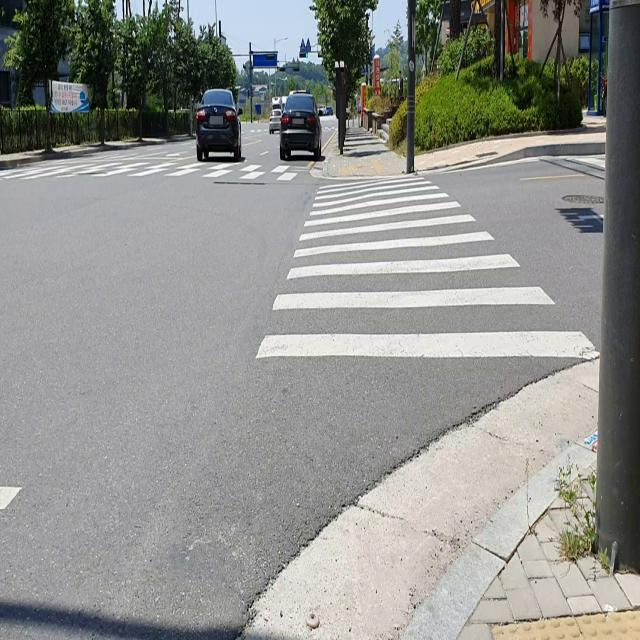횡단보도: (253, 168, 601, 364), (0, 160, 252, 182)
